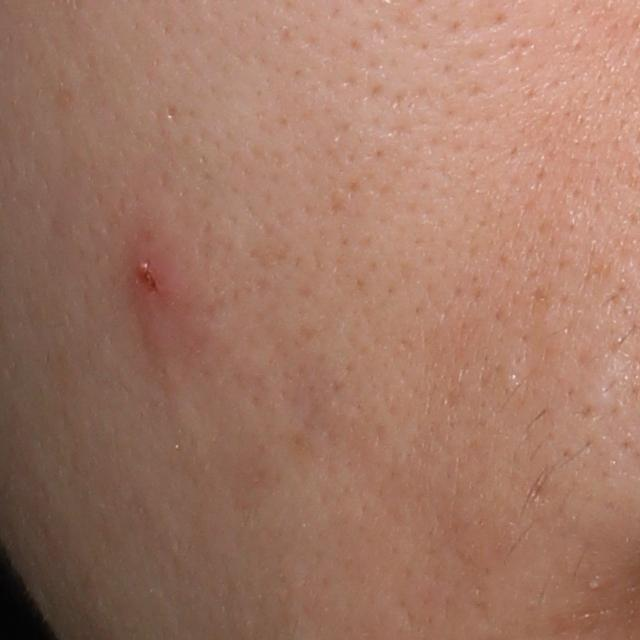papule: (129, 249, 170, 312)
